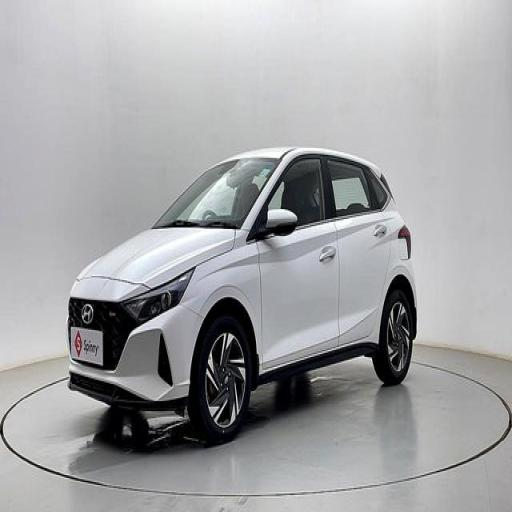License: (67, 324, 111, 370)
